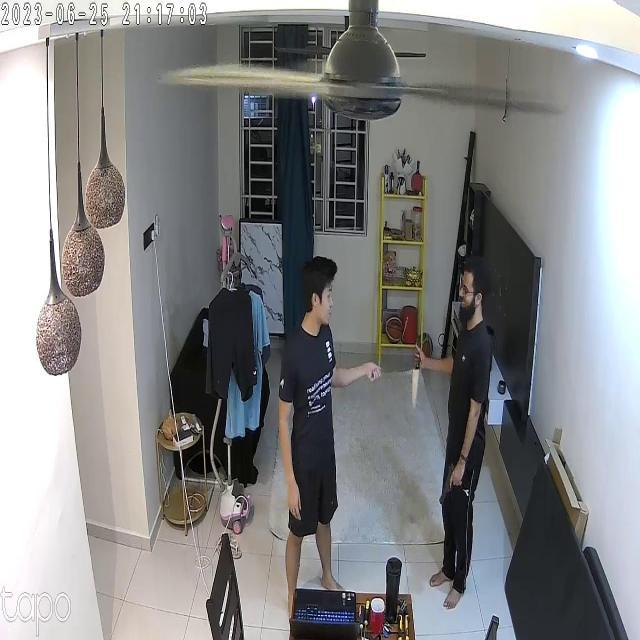Gun: (428, 449, 469, 519)
Knife: (408, 345, 428, 418)
